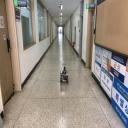cart: (60, 72, 69, 84)
